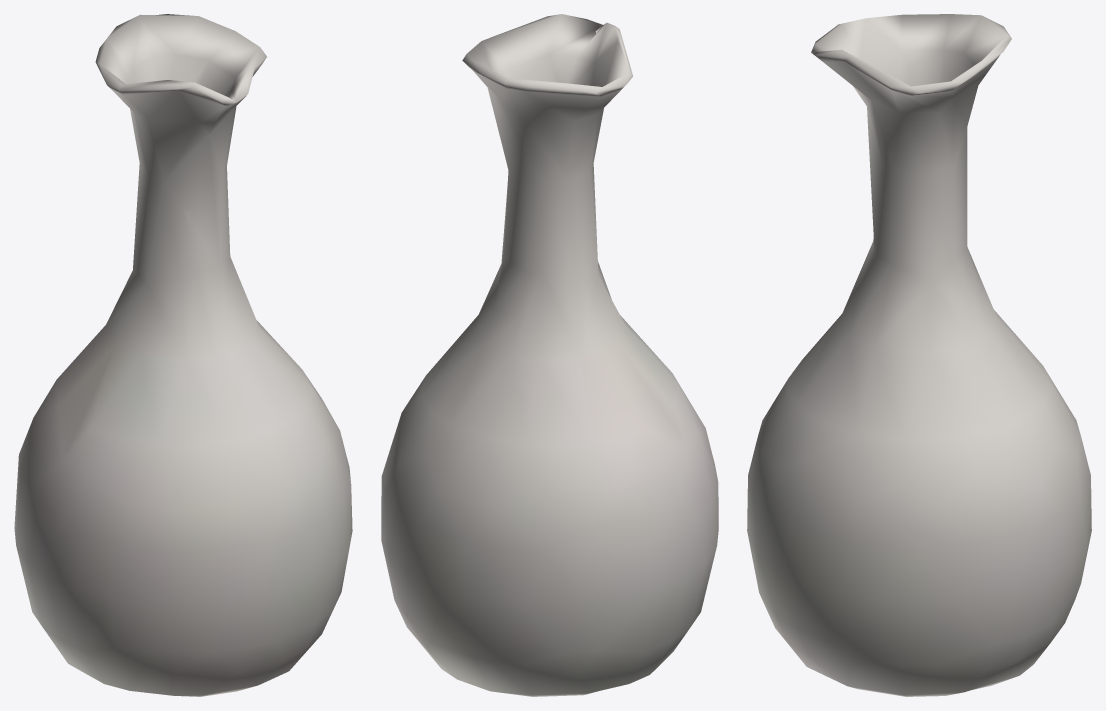
The model's file is design-ceramic-vase-01.glb.
3 views of the same model, side by side, from view 1: azimuth 30°, elevation 25°; view 2: azimuth 150°, elevation 25°; view 3: azimuth 270°, elevation 25° (orthographic).
Parts seen in each view (by area): view 1: ceramic_vase_01; view 2: ceramic_vase_01; view 3: ceramic_vase_01.
Boxes of the visible parts, left/top/right/bottom form: ceramic_vase_01: left=14, top=14, right=352, bottom=696; ceramic_vase_01: left=381, top=14, right=718, bottom=696; ceramic_vase_01: left=747, top=14, right=1091, bottom=696.
Size of the model in its own units: 0.202 by 0.4002 by 0.2026.
Materials: 1 (1 with a texture image).
